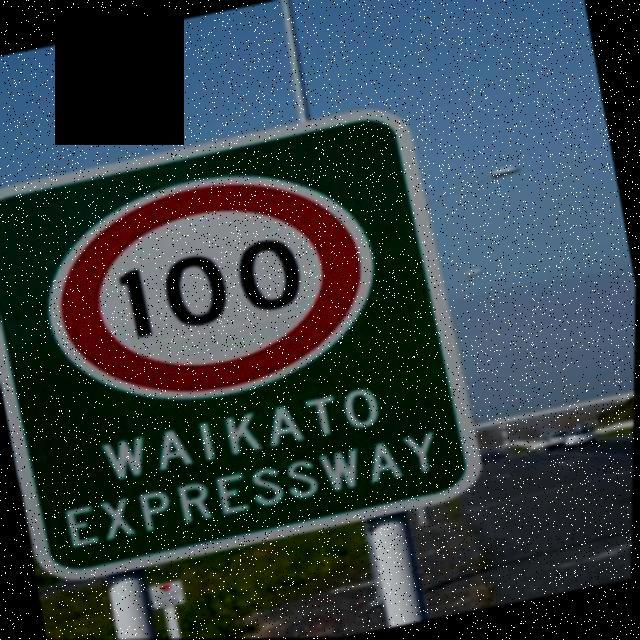speed limit 100: (46, 176, 373, 402)
